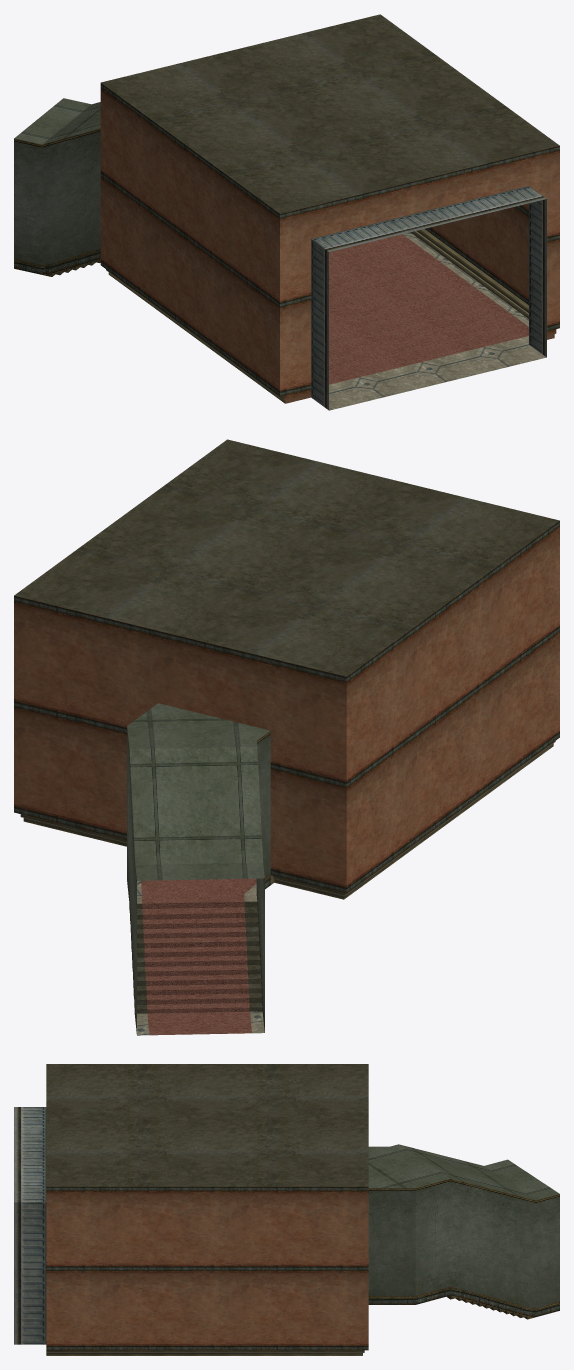
The model's file is mun_corl_guild_theater_s01_r7_side_backstage_mesh_r7.fbx.
3 views of the same model, one above another, from view 1: azimuth 30°, elevation 25°; view 2: azimuth 150°, elevation 25°; view 3: azimuth 270°, elevation 25° (orthographic). The views are drawn at different scales.
Visible parts, largest first — view 1: mesh_node; view 2: mesh_node; view 3: mesh_node.
Part boxes in pixels (x1,y1,x2,y2): mesh_node: [14, 14, 559, 410]; mesh_node: [14, 439, 559, 1035]; mesh_node: [14, 1064, 559, 1355].
Bounding box in the file's own units: 9.28 × 7.4 × 16.94.
